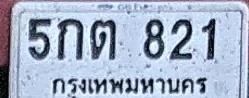1: (202, 18, 216, 60)
2: (170, 18, 193, 60)
5: (28, 18, 51, 59)
8: (143, 18, 164, 59)
A01: (57, 18, 83, 60)
A21: (90, 18, 116, 60)
BKK: (48, 73, 212, 98)
